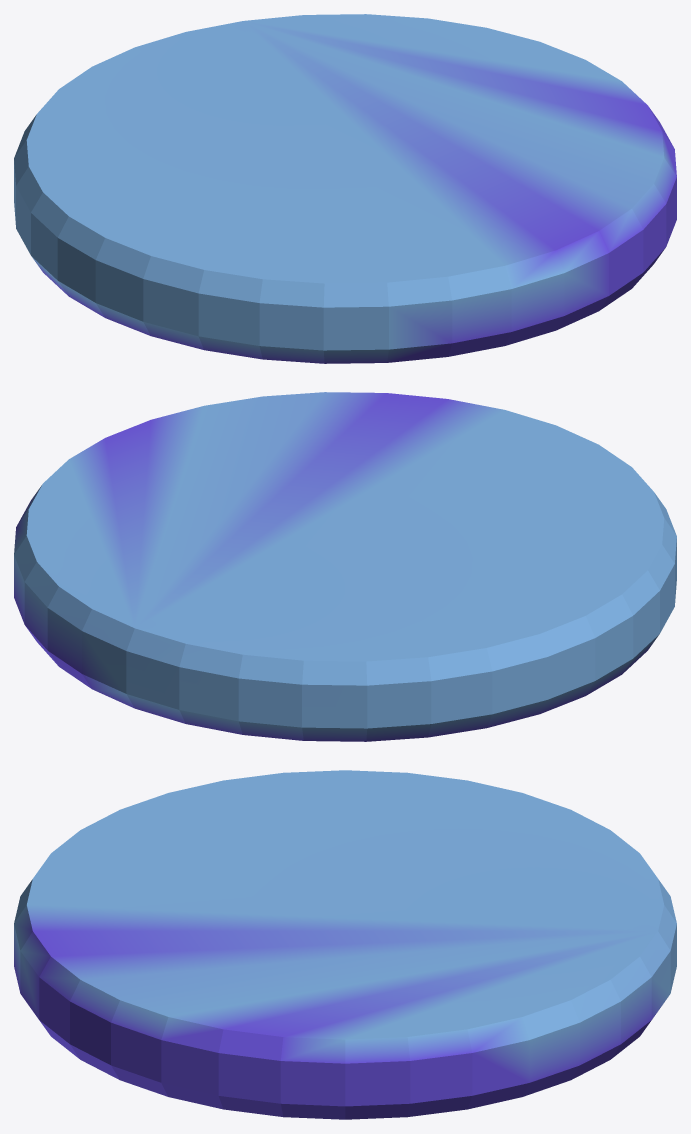
Rendered from Diamond_middle.fbx.
3 views of the same model, one above another, from view 1: azimuth 30°, elevation 25°; view 2: azimuth 150°, elevation 25°; view 3: azimuth 270°, elevation 25° (orthographic).
Visible parts, largest first — view 1: middle blade; view 2: middle blade; view 3: middle blade.
Boxes of the visible parts, <box> form: middle blade: <box>14,14,676,363</box>; middle blade: <box>14,392,676,741</box>; middle blade: <box>14,770,676,1119</box>.
Bounding box in the file's own units: 600 × 80 × 600.
